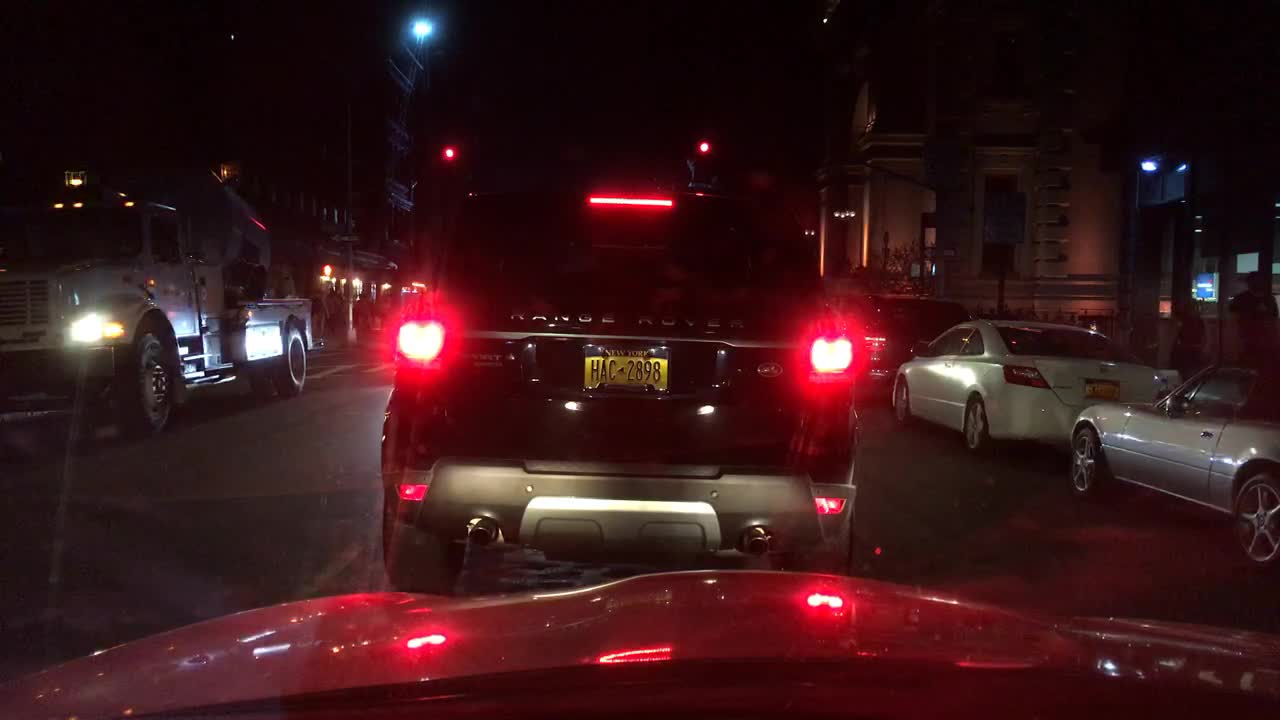car: (378, 182, 862, 600), (1068, 354, 1279, 565), (891, 317, 1182, 460), (830, 295, 915, 390), (887, 299, 972, 350)
person: (1227, 270, 1279, 375), (1166, 295, 1205, 383), (1130, 311, 1158, 371), (307, 287, 328, 340), (321, 289, 340, 337), (352, 292, 370, 334), (372, 294, 384, 329)
traffic light: (698, 136, 709, 161), (443, 142, 456, 163), (319, 262, 333, 277)
traffic sign: (985, 189, 1027, 243), (924, 246, 961, 258), (330, 235, 362, 241)
truck: (0, 158, 313, 442)
